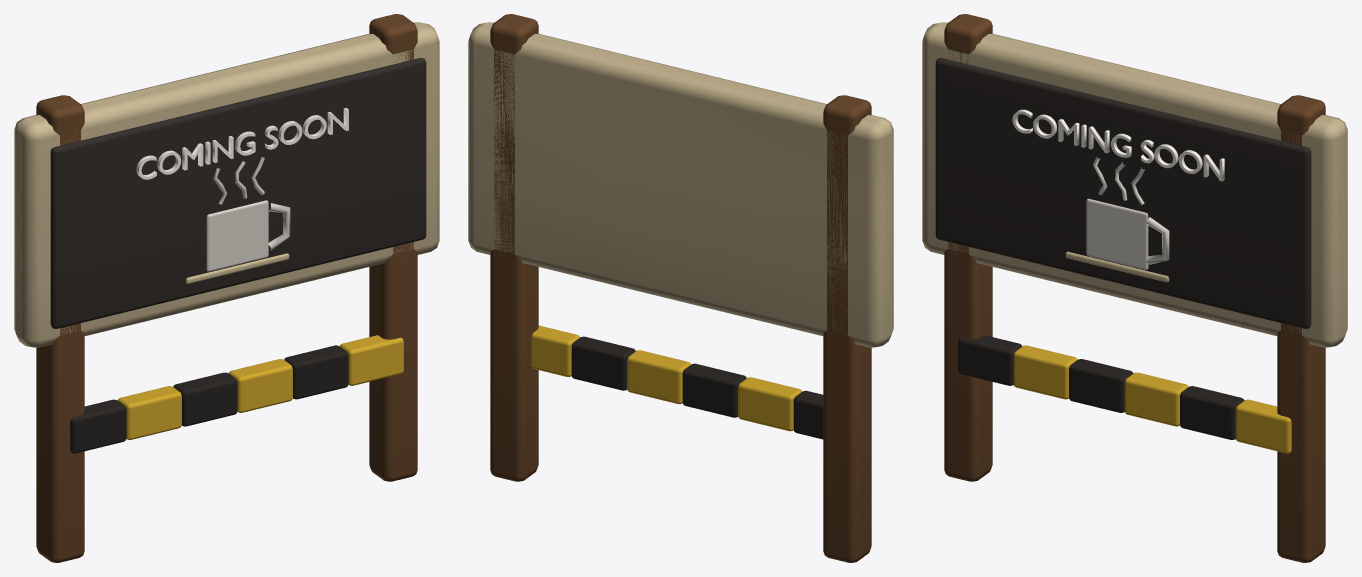
The model's file is sign_comingsoon.glb.
The picture shows the model from 3 angles, left to right: view 1: azimuth 30°, elevation 25°; view 2: azimuth 150°, elevation 25°; view 3: azimuth 330°, elevation 25°; orthographic projection.
Parts seen in each view (by area): view 1: sign_comingsoon_main, Text.001; view 2: sign_comingsoon_main; view 3: sign_comingsoon_main, Text.001.
Boxes of the visible parts, x1,y1,x2,y2 form: sign_comingsoon_main: (14,14,439,562); Text.001: (136,107,348,179); sign_comingsoon_main: (468,14,893,562); sign_comingsoon_main: (922,14,1347,562); Text.001: (1012,109,1224,181).
Bounding box in the file's own units: 1.2 × 1.25 × 0.136.
